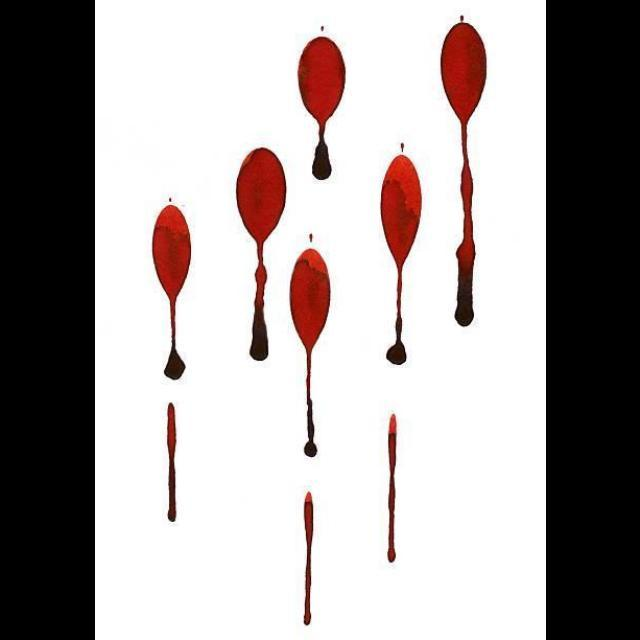blood: (440, 21, 488, 328), (235, 147, 287, 364), (379, 153, 422, 367), (290, 248, 331, 461), (297, 35, 347, 182), (152, 203, 192, 384), (387, 416, 398, 565), (303, 492, 315, 626), (165, 404, 178, 525)
